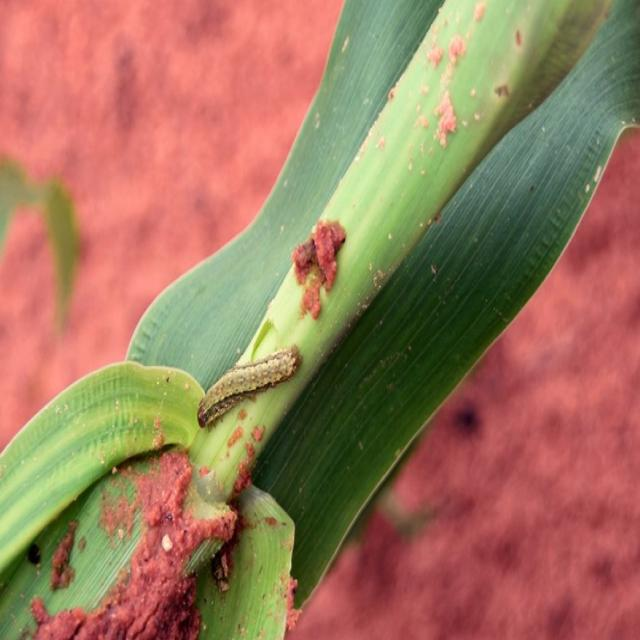Fall-armyworm: (195, 342, 305, 424)
